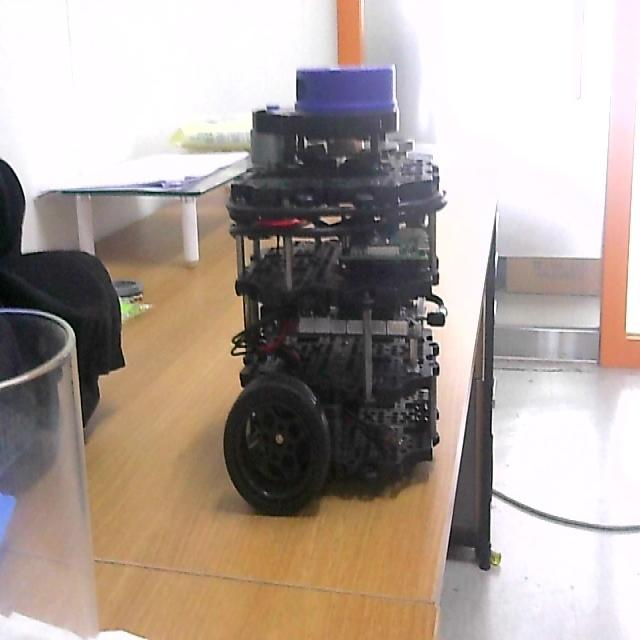turtle: (222, 62, 449, 516)
